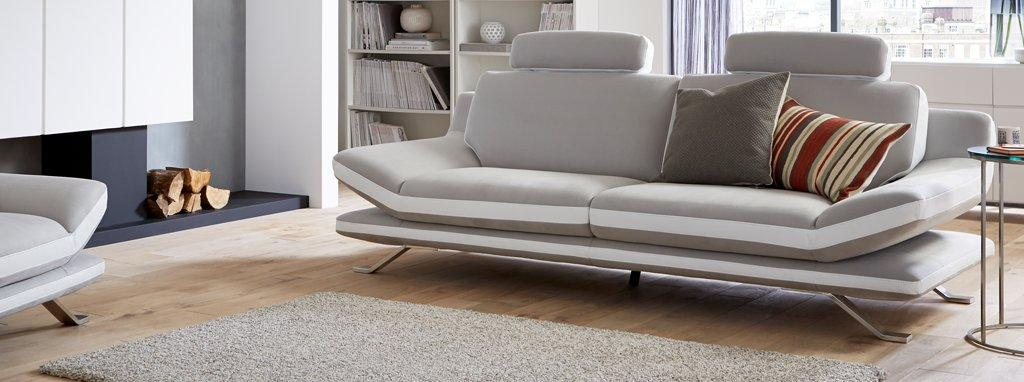chairs: (330, 27, 995, 351), (1, 146, 115, 324)
